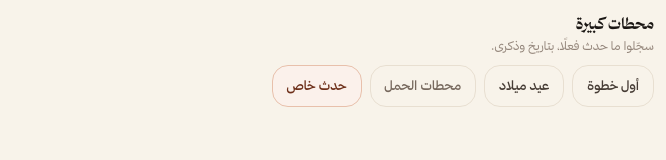
Test: تسجيل محطة كبيرة › يبقي محطات الحمل متاحة بعد الولادة داخل مجموعة قابلة للتوسيع
The image size is (666, 160).
Check: the button "أول سونار" is not shown
Click the button "محطات الحمل". click: click(423, 86)
box: top-left (370, 65), bottom-right (476, 106)
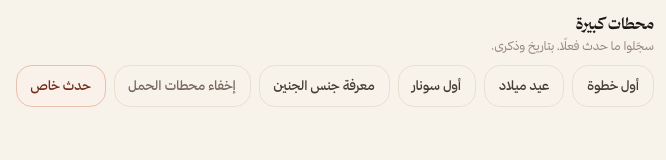
Check: the button "أول سونار" is shown, box top-left (398, 65), bottom-right (476, 106)
Check: the button "معرفة جنس الجنين" is shown, box top-left (259, 65), bottom-right (390, 106)
